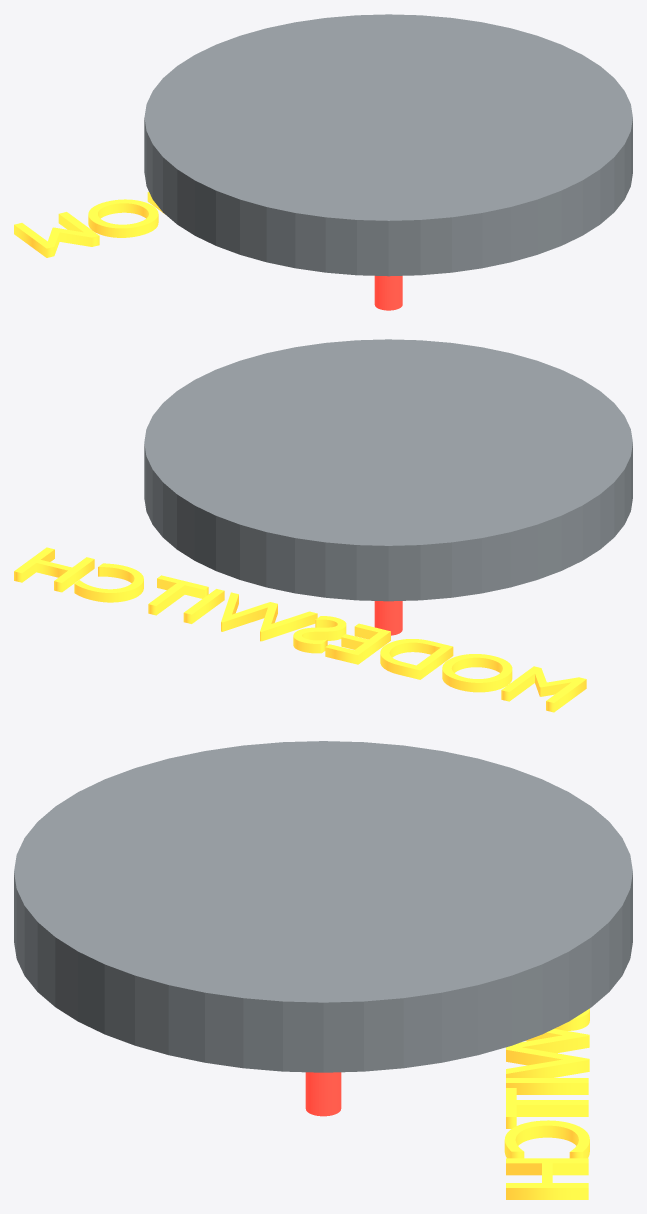
The model's file is MODESWITCH.glb.
3 views of the same model, one above another, from view 1: azimuth 30°, elevation 25°; view 2: azimuth 150°, elevation 25°; view 3: azimuth 270°, elevation 25° (orthographic). The views are drawn at different scales.
Visible parts, largest first — view 1: MODE_SWITCH, LABEL_MODESWITCH, MODE_SWITCH_pointer; view 2: MODE_SWITCH, LABEL_MODESWITCH, MODE_SWITCH_pointer; view 3: MODE_SWITCH, LABEL_MODESWITCH, MODE_SWITCH_pointer.
Part boxes in pixels (<box>): MODE_SWITCH: <box>144,14,632,276</box>; LABEL_MODESWITCH: <box>14,192,164,257</box>; MODE_SWITCH_pointer: <box>374,276,402,310</box>; MODE_SWITCH: <box>144,339,632,601</box>; LABEL_MODESWITCH: <box>14,547,586,712</box>; MODE_SWITCH_pointer: <box>374,601,402,635</box>; MODE_SWITCH: <box>14,741,632,1072</box>; LABEL_MODESWITCH: <box>504,1008,589,1199</box>; MODE_SWITCH_pointer: <box>305,1072,341,1116</box>.
Bounding box in the file's own units: 0.3573 × 0.1183 × 0.28.
